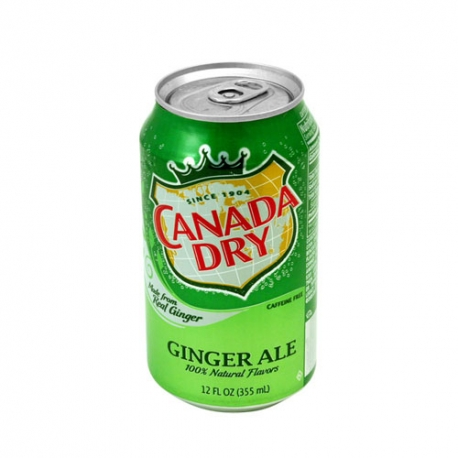Lata: (134, 51, 323, 421)
